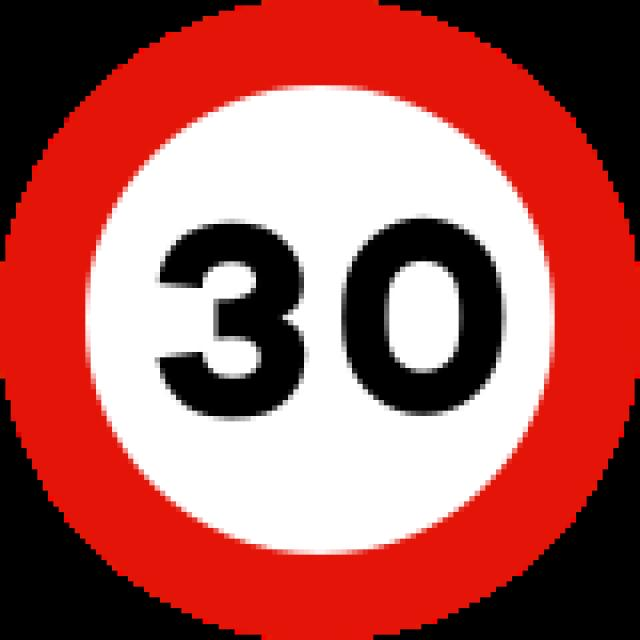Speed Limit -30-: (140, 194, 518, 448)
